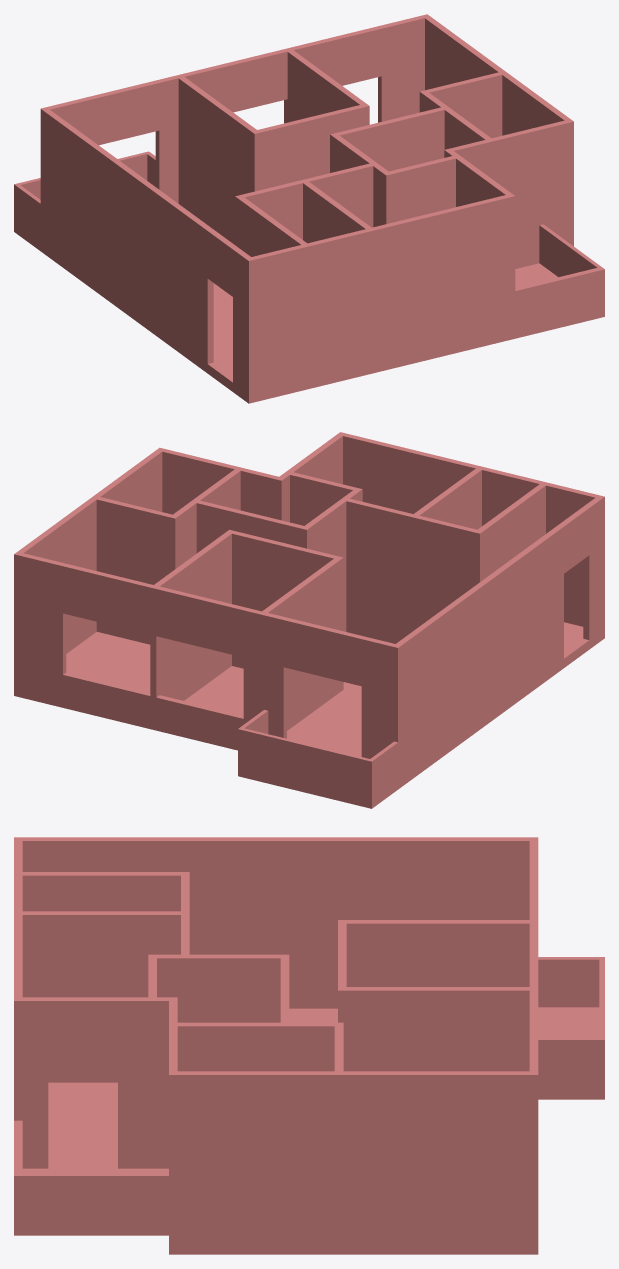
3 renders of one model, top to bottom at view 1: azimuth 30°, elevation 25°; view 2: azimuth 150°, elevation 25°; view 3: azimuth 270°, elevation 25°, orthographic. The views are drawn at different scales.
Size of the model in its own units: 9.65 by 3.4 by 10.15.
